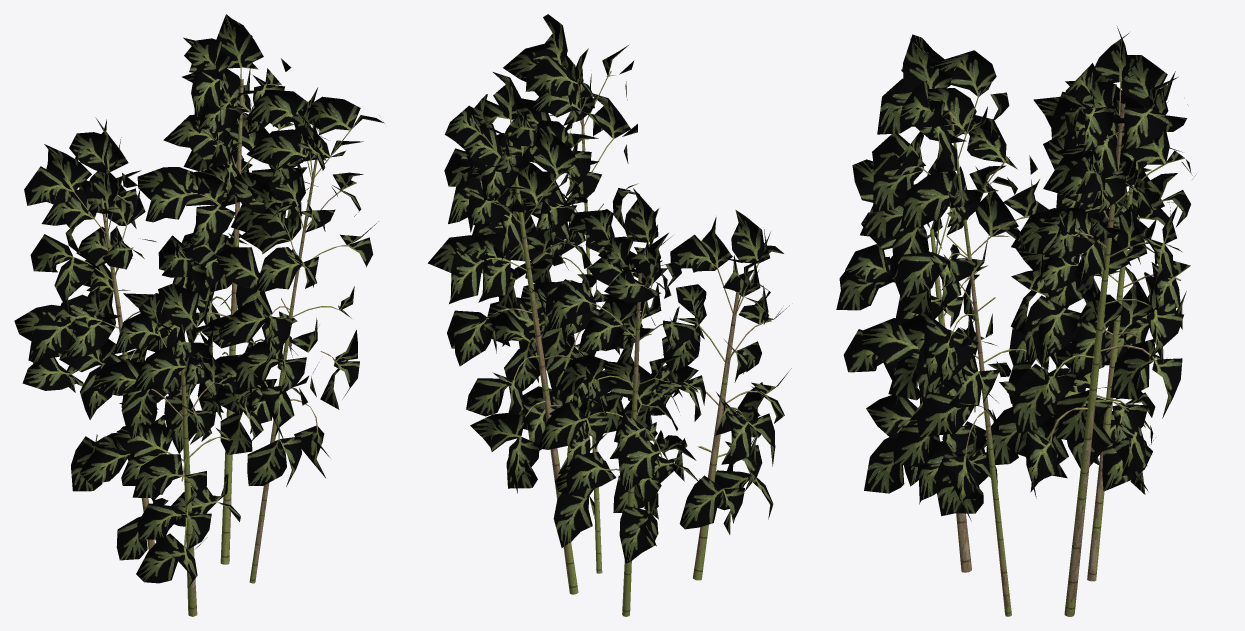
File: Bamboo_2_Hero_BlueFountain_001_b1df3b.glb
3 views of the same model, side by side, from view 1: azimuth 30°, elevation 25°; view 2: azimuth 150°, elevation 25°; view 3: azimuth 270°, elevation 25° (orthographic). The views are drawn at different scales.
Size of the model in its own units: 3.19 by 5.23 by 3.13.
2 materials, 2 textured.
